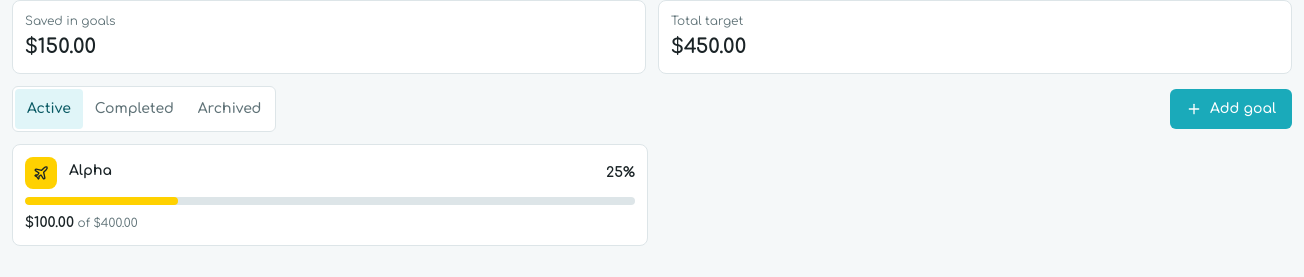
Test: GoalsManager › totals the open goals and filters by status
Expected: the text "$150.00" is shown, [25, 35, 96, 58]
Expected: the text "$450.00" is shown, [671, 35, 746, 58]
Step 1. Click the button "Completed" → (134, 109), box [83, 89, 186, 129]
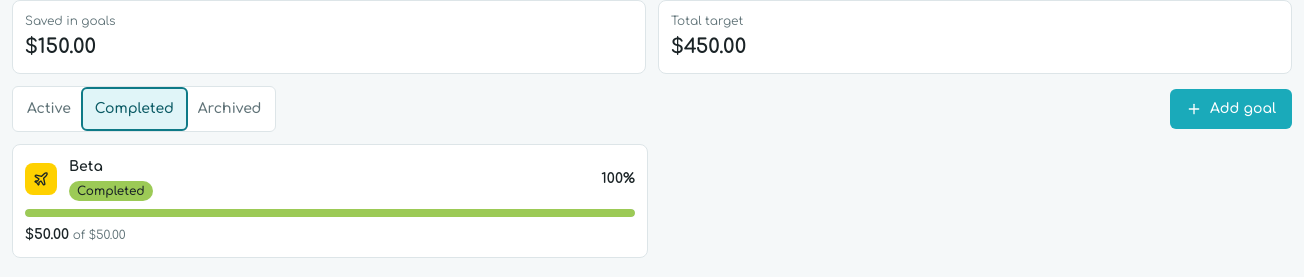
Expected: the text "Beta" is shown, [69, 157, 103, 177]
Step 2. Click the button "Archived" → (230, 109), box [186, 89, 274, 129]
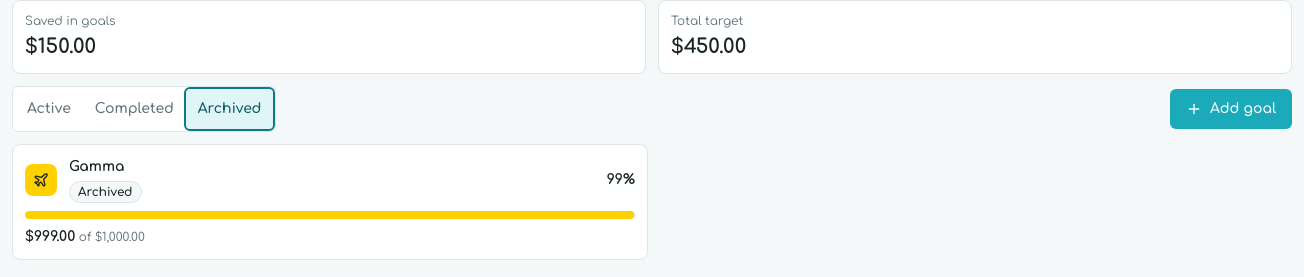
Expected: the text "Gamma" is shown, [69, 157, 124, 177]
